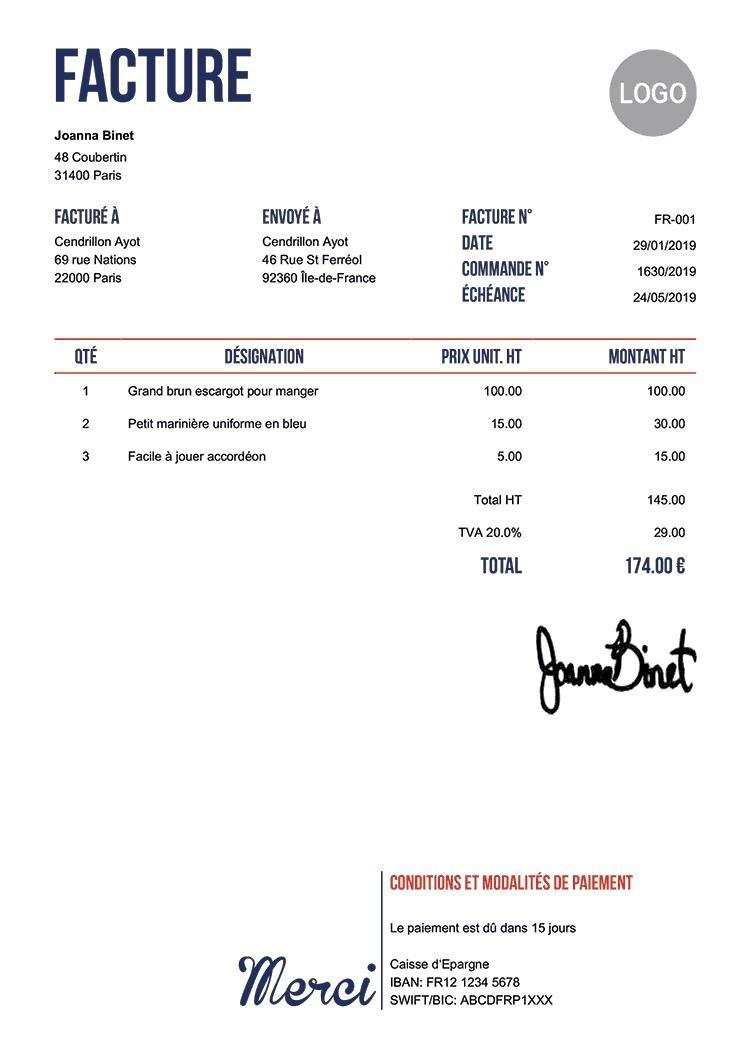ROI: (68, 343, 692, 472), (388, 870, 639, 1013), (451, 205, 713, 308), (453, 485, 707, 583), (49, 202, 159, 298), (44, 118, 148, 191)
